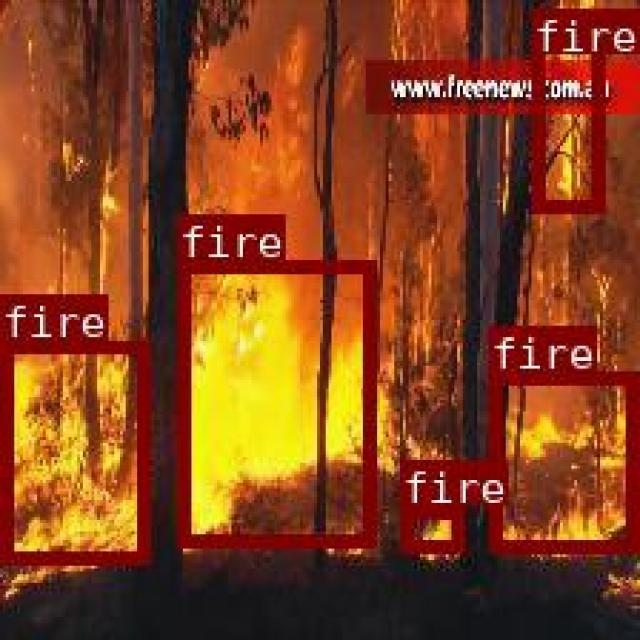fire: (177, 258, 373, 545), (0, 339, 146, 562), (486, 369, 634, 549), (530, 8, 601, 211), (400, 503, 462, 549)
